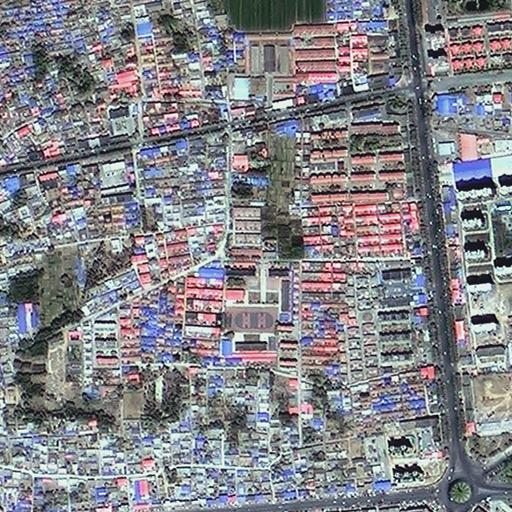school: (219, 263, 292, 368)
